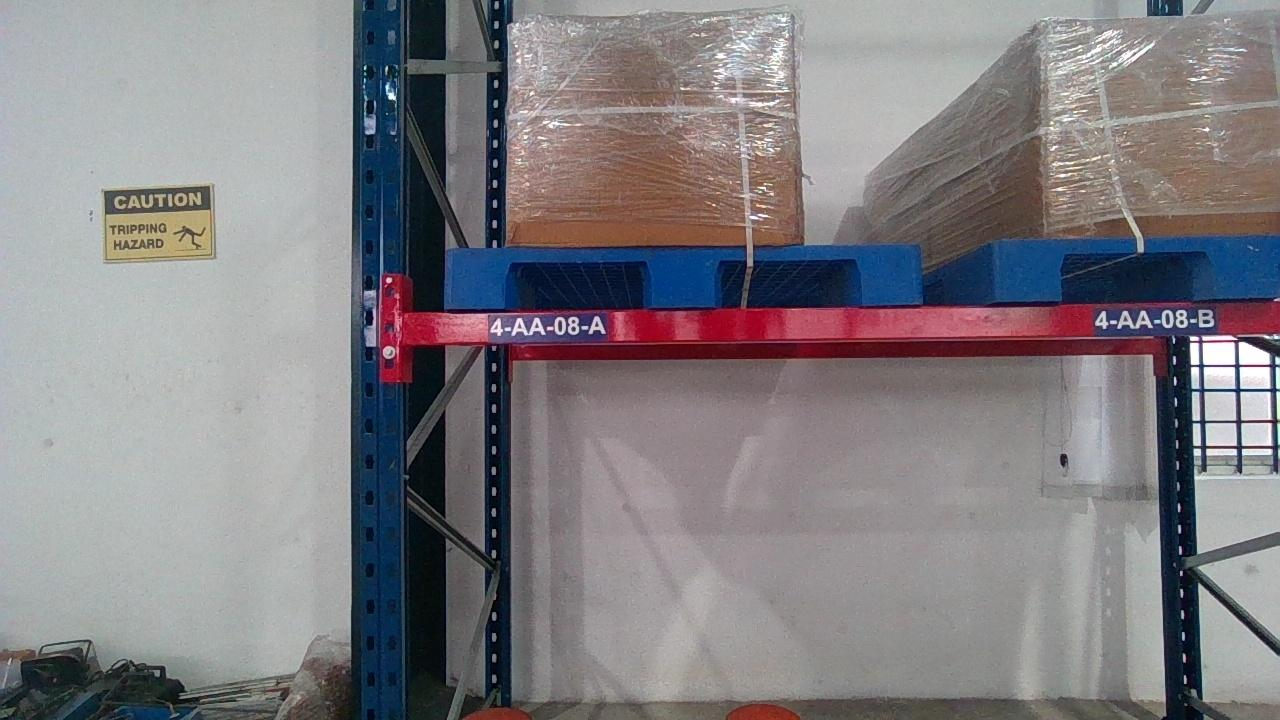h_rack: (406, 301, 1279, 341)
small_pallet: (440, 244, 920, 304), (993, 232, 1279, 295)
